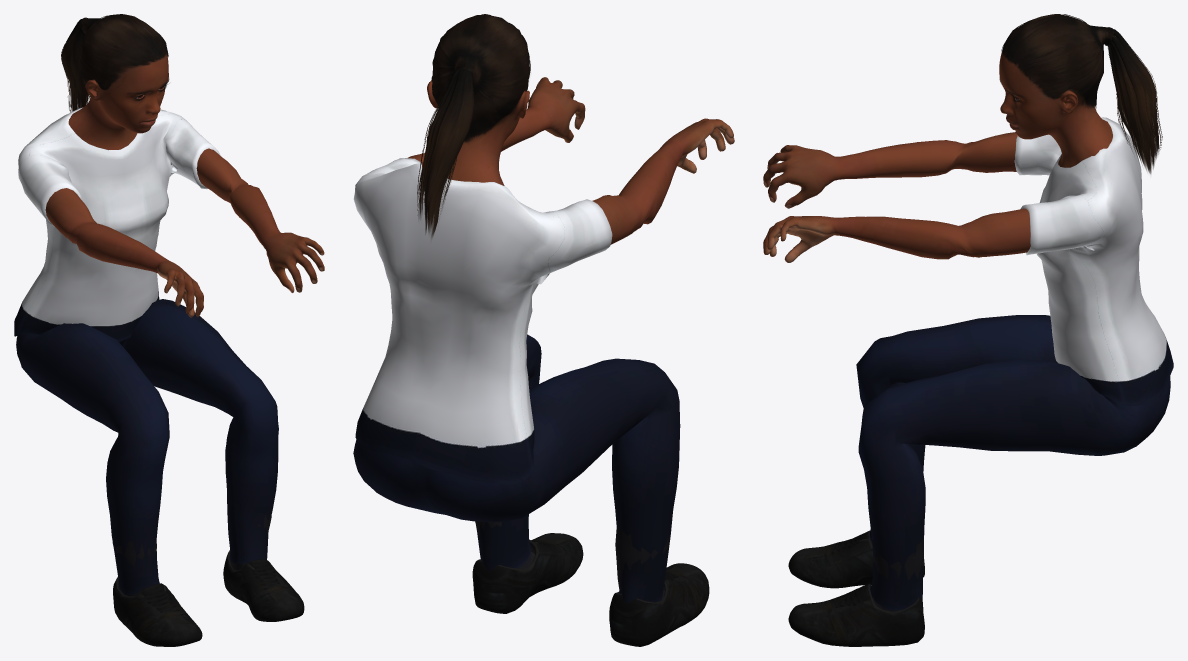
Rendered from g4_sit_talk.glb.
3 renders of one model, left to right at view 1: azimuth 30°, elevation 25°; view 2: azimuth 150°, elevation 25°; view 3: azimuth 270°, elevation 25°, orthographic. The views are drawn at different scales.
Visible parts, largest first — view 1: g4.female_casualsuit01, g4, g4.shoes02, g4.ponytail01; view 2: g4.female_casualsuit01, g4.ponytail01, g4, g4.shoes02; view 3: g4.female_casualsuit01, g4, g4.ponytail01, g4.shoes02.
Boxes of the visible parts, left/top/right/bottom form: g4.female_casualsuit01: left=14, top=107, right=278, bottom=594; g4: left=45, top=53, right=324, bottom=317; g4.shoes02: left=112, top=511, right=304, bottom=646; g4.ponytail01: left=61, top=14, right=168, bottom=112; g4.female_casualsuit01: left=353, top=158, right=680, bottom=602; g4.ponytail01: left=417, top=14, right=530, bottom=238; g4: left=408, top=75, right=734, bottom=244; g4.shoes02: left=472, top=521, right=709, bottom=646; g4.female_casualsuit01: left=856, top=117, right=1173, bottom=611; g4: left=763, top=51, right=1112, bottom=262; g4.ponytail01: left=1001, top=14, right=1162, bottom=174; g4.shoes02: left=788, top=530, right=924, bottom=646.
Size of the model in its own units: 0.4153 by 1.16 by 0.7283.
Materials: 7 (7 with a texture image).
